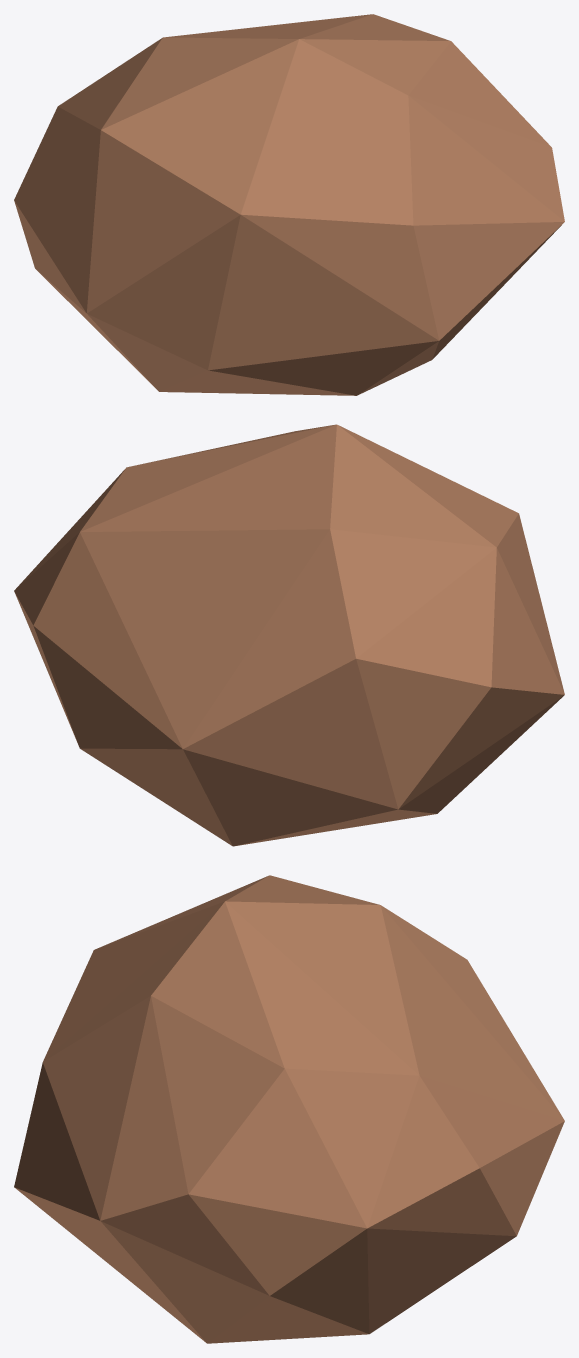
File: decor_rock_03.glb
3 views of the same model, one above another, from view 1: azimuth 30°, elevation 25°; view 2: azimuth 150°, elevation 25°; view 3: azimuth 270°, elevation 25° (orthographic). The views are drawn at different scales.
Visible parts, largest first — view 1: decor_rock_03; view 2: decor_rock_03; view 3: decor_rock_03.
Boxes of the visible parts, bbox=[...] form: decor_rock_03: bbox=[14, 14, 564, 395]; decor_rock_03: bbox=[14, 424, 564, 846]; decor_rock_03: bbox=[14, 875, 564, 1343].
Bounding box in the file's own units: 0.9009 × 0.6315 × 0.8387.
